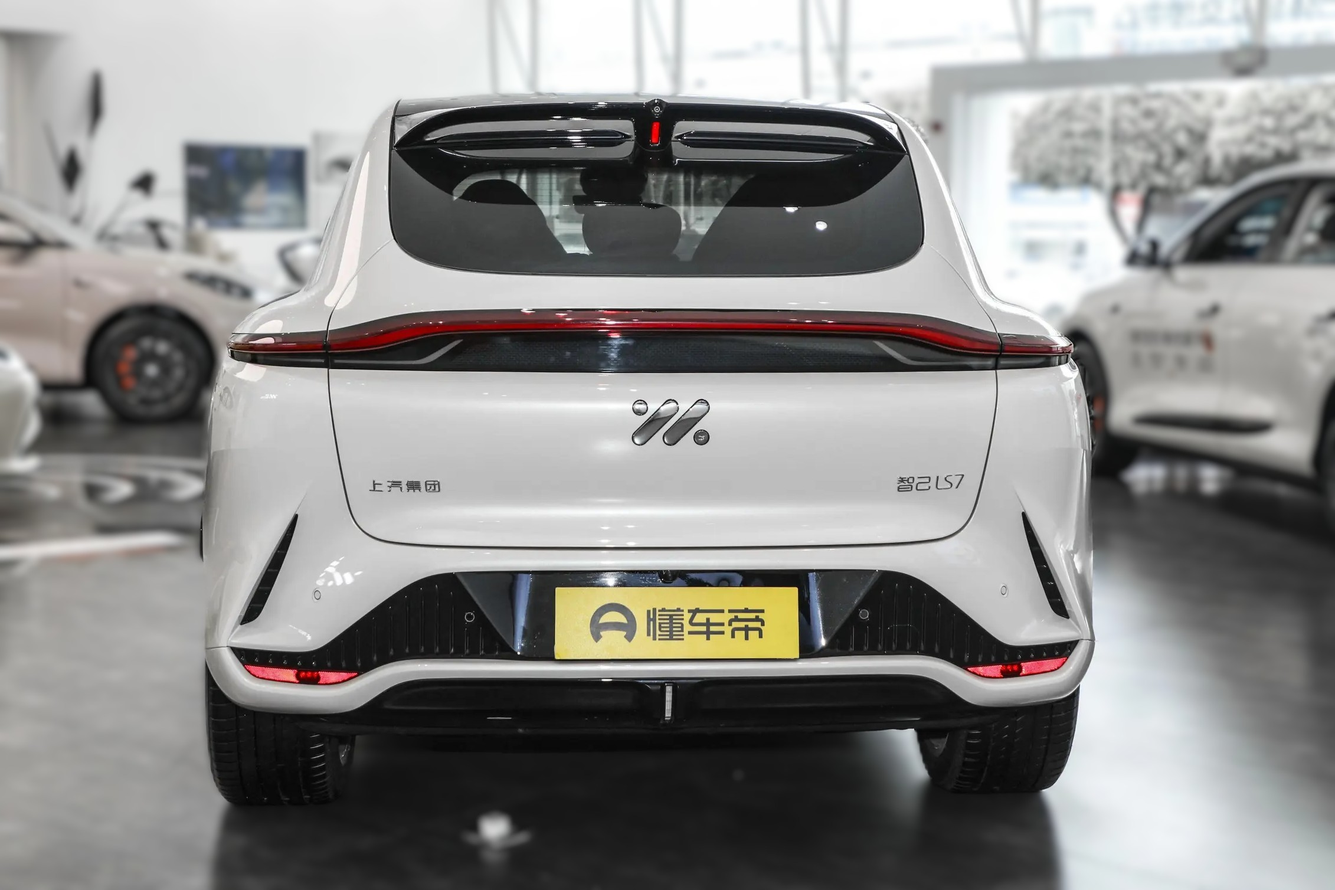IM: (631, 400, 709, 447)
